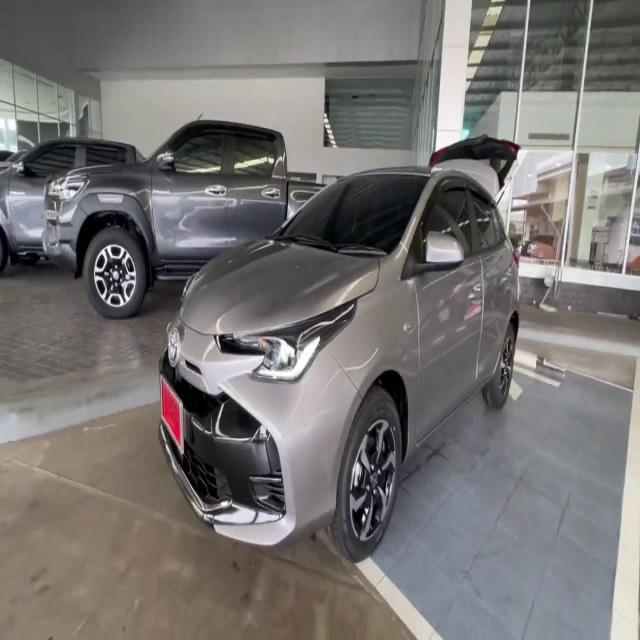Hatchback: (158, 136, 518, 561)
